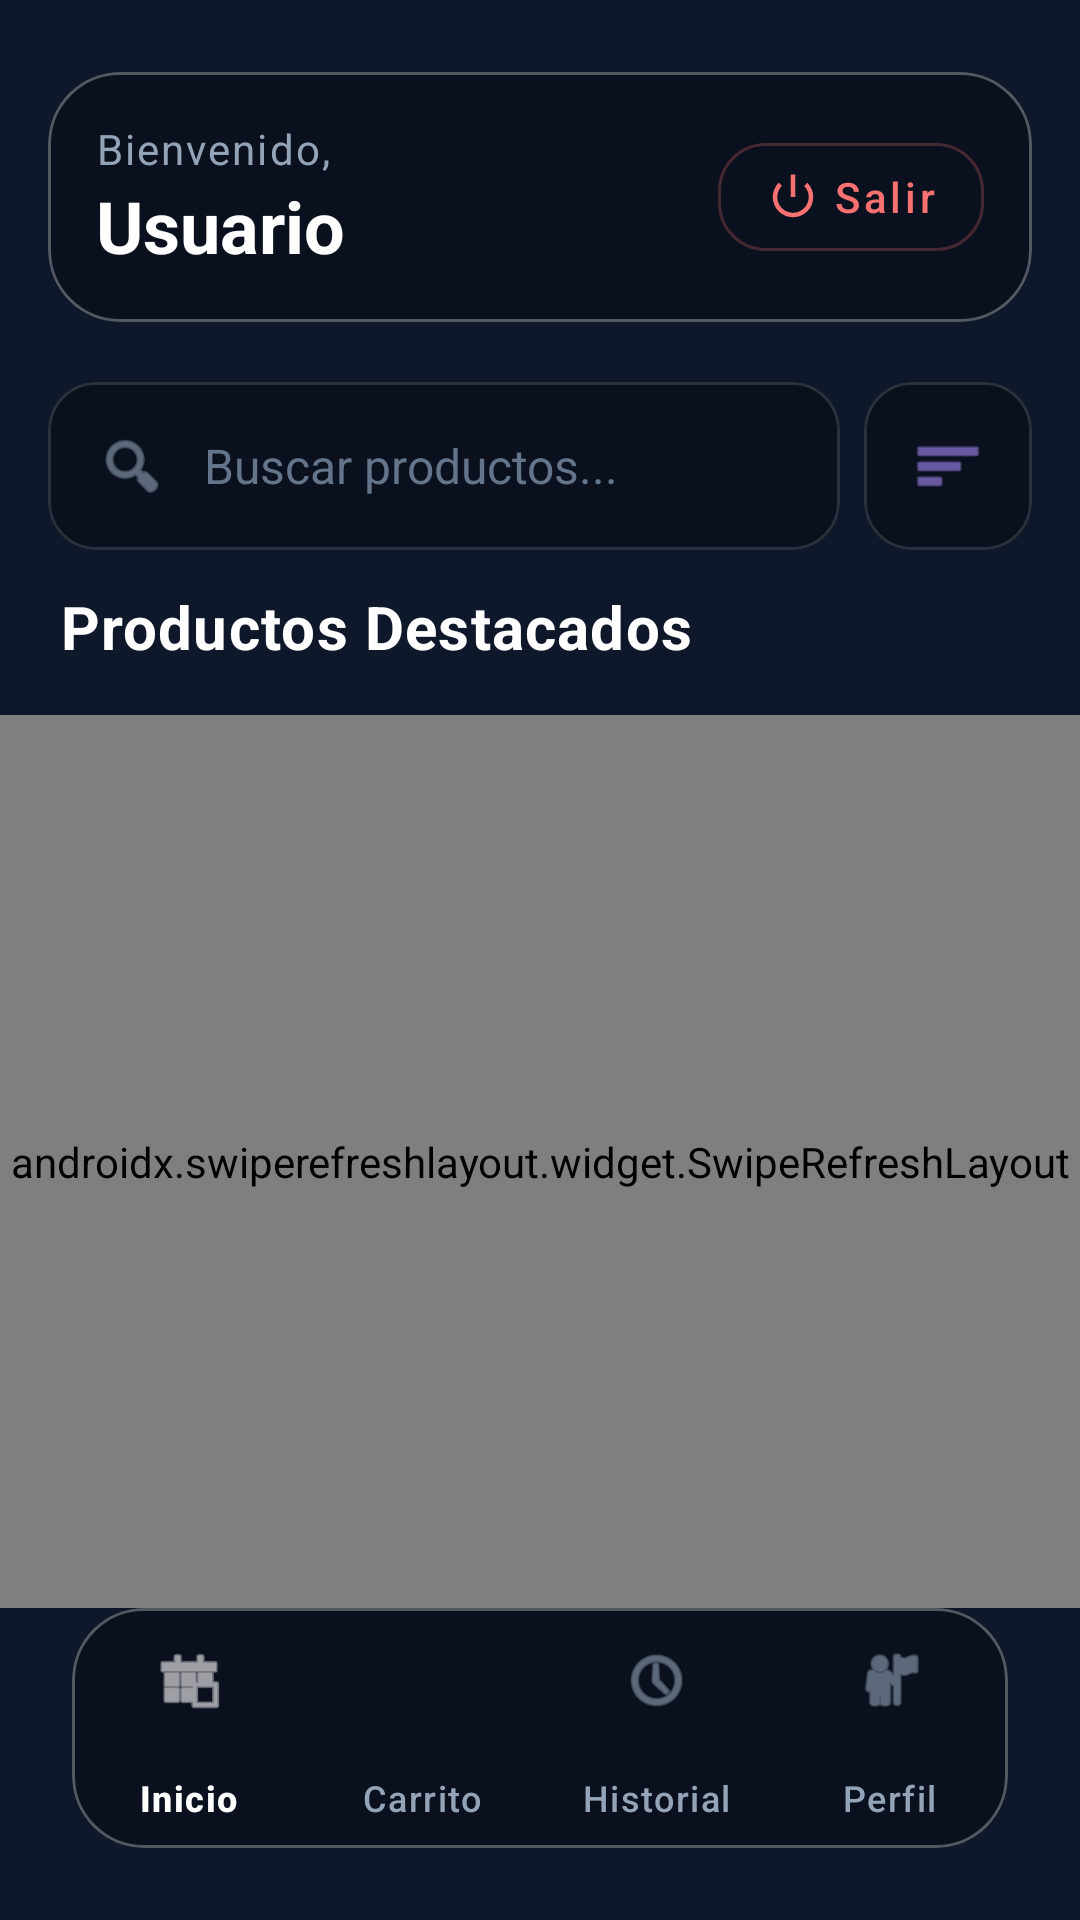

Where icons sit on this 1080 × 1920 app screen, as (left=x1, top=y1, right=x2, bottom=y2):
search: (left=105, top=440, right=158, bottom=493)
sort by size: (left=917, top=446, right=979, bottom=487)
